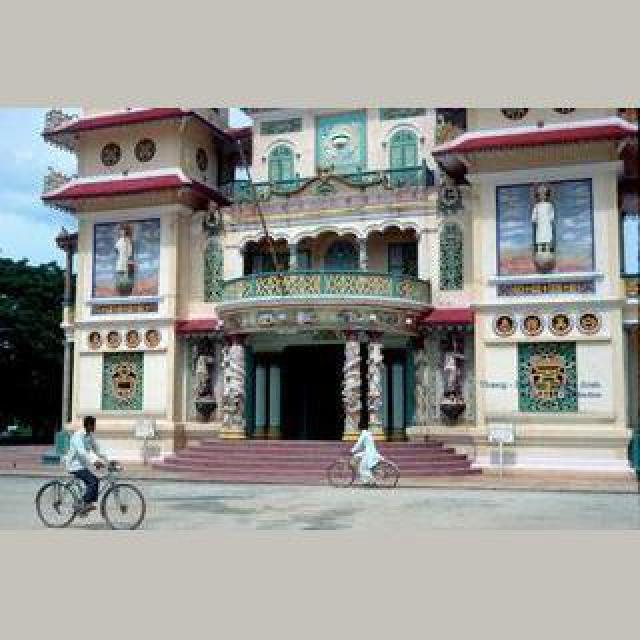MC-Bike: (66, 416, 110, 516), (348, 428, 384, 488)
Person: (34, 462, 150, 530), (327, 449, 399, 489)
